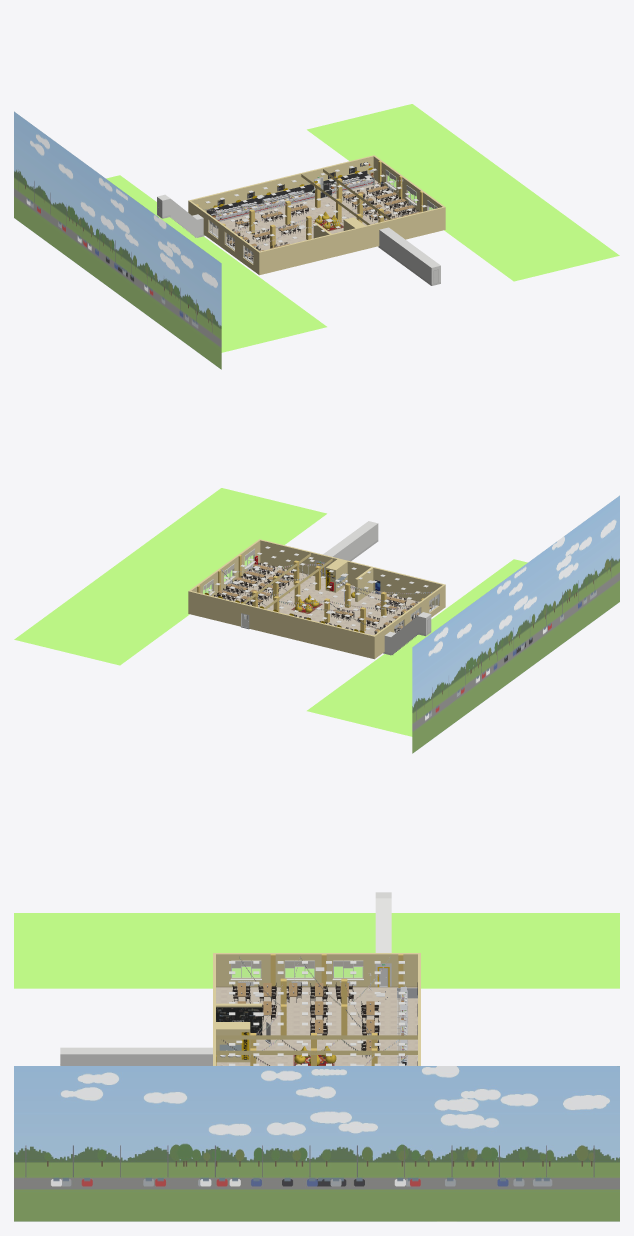
Rendered from Canteen_LowPoly.glb.
The picture shows the model from 3 angles, top to bottom: view 1: azimuth 30°, elevation 25°; view 2: azimuth 150°, elevation 25°; view 3: azimuth 270°, elevation 25°; orthographic projection. The views are drawn at different scales.
Visible parts, largest first — view 1: Outside_View, Walls, Floor, Tunnel_Shell (×2), Columns, Bunting; view 2: Outside_View, Walls, Floor, Tunnel_Shell (×2), Columns, Bunting, Entrance_Block; view 3: Outside_View, Floor, Walls, Tunnel_Shell (×2), Ceiling, Columns, Entrance_Block, Chalk_Wall, Bunting, Window_Glass.
Boxes of the visible parts, <box> form: Outside_View: <box>14,104,619,369</box>; Walls: <box>188,155,445,275</box>; Floor: <box>209,180,418,261</box>; Tunnel_Shell (×2): <box>157,194,440,285</box>; Columns: <box>249,178,383,247</box>; Bunting: <box>202,179,403,246</box>; Outside_View: <box>14,488,619,753</box>; Walls: <box>188,539,445,659</box>; Floor: <box>215,563,434,635</box>; Tunnel_Shell (×2): <box>315,521,431,655</box>; Columns: <box>252,560,386,631</box>; Bunting: <box>221,562,431,629</box>; Entrance_Block: <box>325,559,347,592</box>; Outside_View: <box>14,913,619,1221</box>; Floor: <box>216,987,417,1065</box>; Walls: <box>213,953,420,1065</box>; Tunnel_Shell (×2): <box>60,892,391,1065</box>; Ceiling: <box>216,1035,417,1054</box>; Columns: <box>250,978,377,1065</box>; Entrance_Block: <box>216,1022,250,1062</box>; Chalk_Wall: <box>216,1003,262,1035</box>; Bunting: <box>223,956,398,1065</box>; Window_Glass: <box>232,967,361,977</box>.
Size of the model in its own units: 66.5 by 17 by 60.
Materials: 100 (26 with a texture image).
